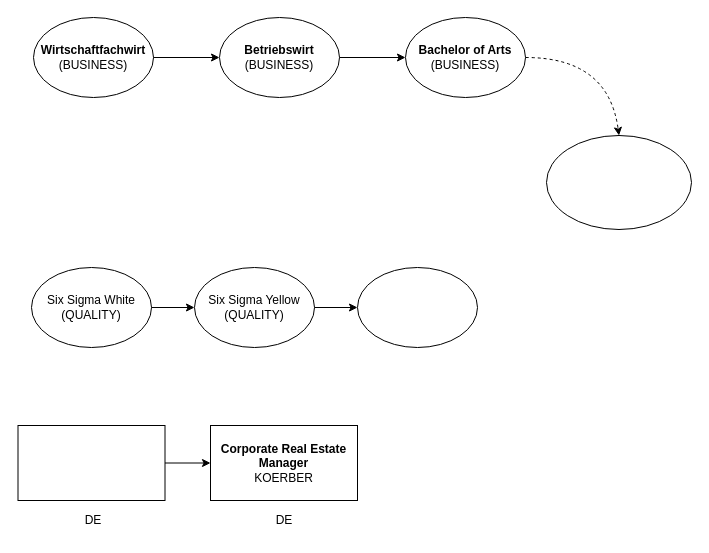
Some shapes in this 709 by 553 pixel diagram are drawn without their labels. Each missing label, with the centre of its shape:
"Commercial Real Estate Professional SIEMENS" goes at [91,462].
"Master of Science ENGINEERING OR BUSINESS IT" goes at [619,182].
"Six Sigma Green (QUALITY)" goes at [417,307].
